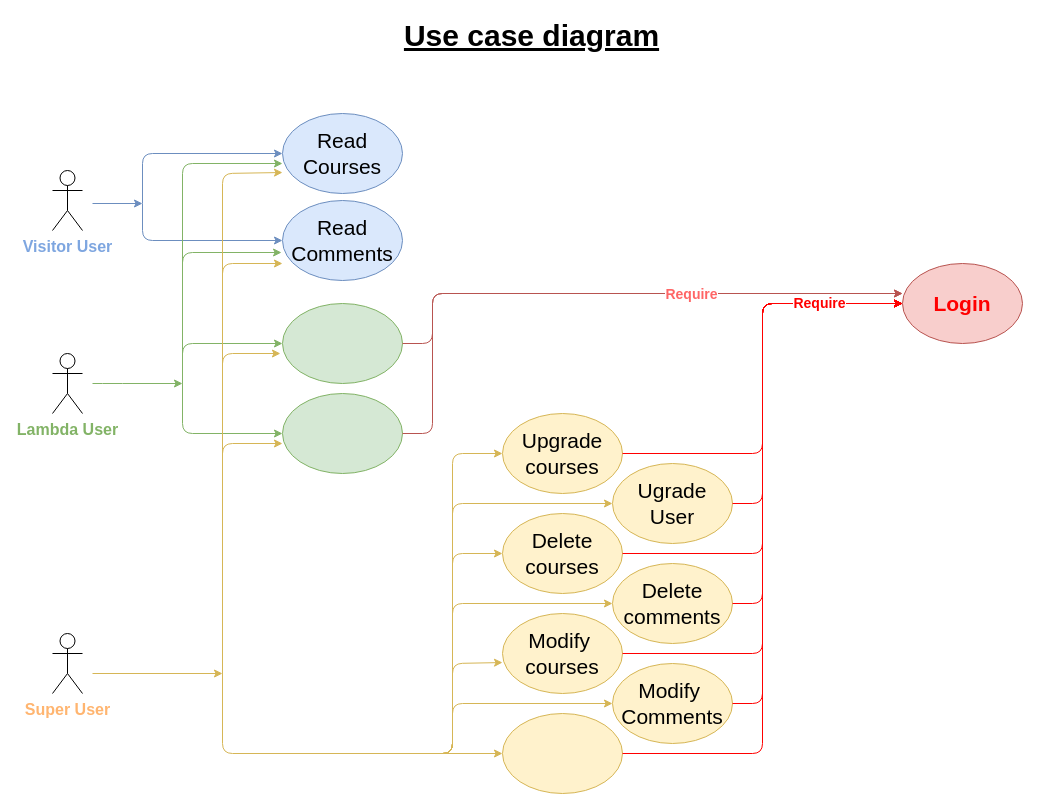
Image size: 1040x811. Some labels were removed from this diagram. The centre of each missing label's shape, as x and y in pixels:
"Create Comments" goes at (342,433).
"Create Courses" goes at (562,753).
"Evaluate courses" goes at (342,343).
